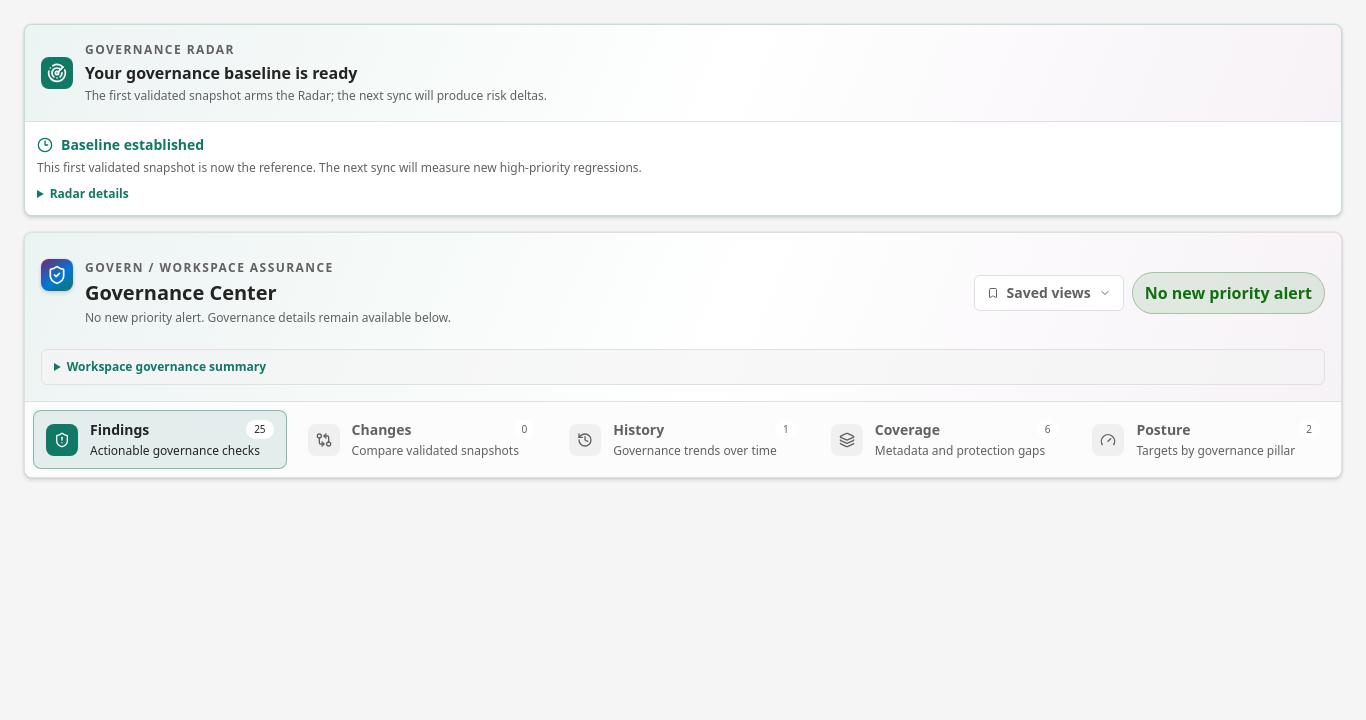
Test: GovernanceCenterView › shows posture targets on a fixed scoring surface
The image size is (1366, 720).
Click the tab "Posture 2 Targets by governance pillar". click: (1206, 440)
box: [1079,410,1333,469]
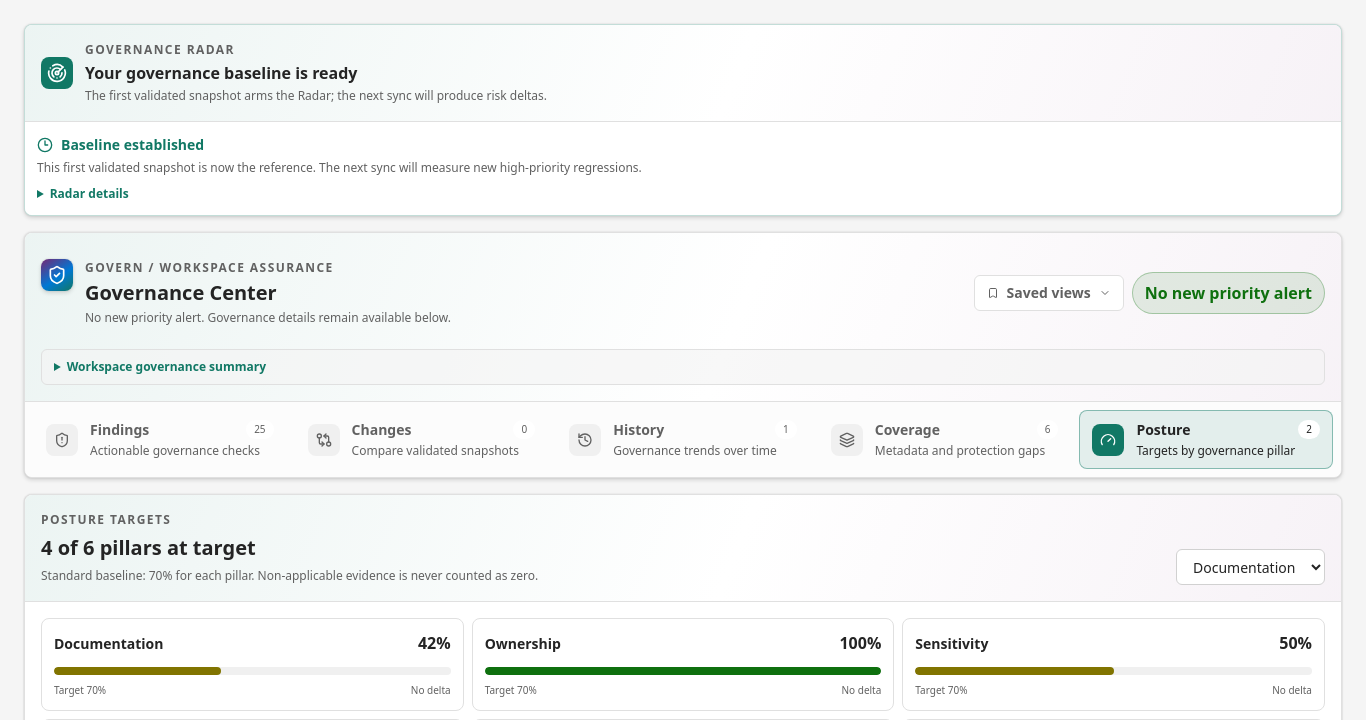
expect the heading "4 of 6 pillars at target" is shown: met, box [41,534,256,561]
expect the 1st text "Target 70%" is shown: met, box [54,683,106,698]
